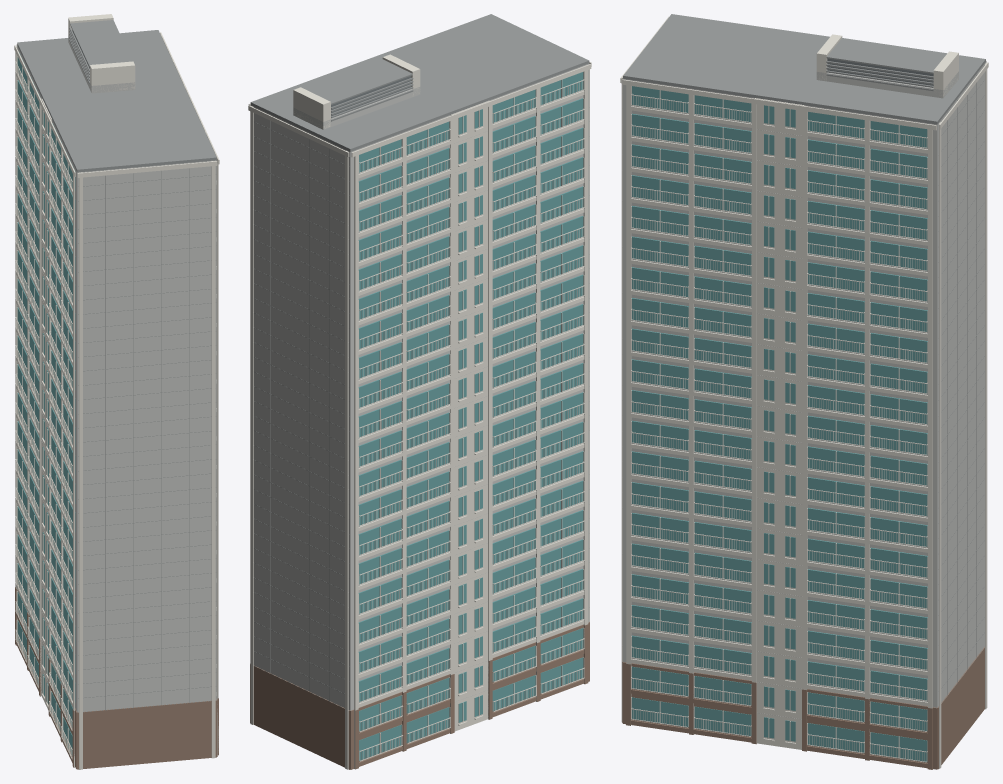
The model's file is bespoke-jamsil-els-126.glb.
3 views of the same model, side by side, from view 1: azimuth 30°, elevation 25°; view 2: azimuth 150°, elevation 25°; view 3: azimuth 270°, elevation 25° (orthographic). The views are drawn at different scales.
Parts seen in each view (by area): view 1: Els126_editable_Els126_light_grey_solid_wall, Els126_editable_Els126_modest_grey_flat_roof_caps, Els126_editable_Els126_turquoise_balcony_glazing, Els126_white_exact_chunk_0, Els126_white_exact_chunk_1, Els126_editable_Els126_muted_ground_wall, Els126_white_exact_chunk_2; view 2: Els126_editable_Els126_turquoise_balcony_glazing, Els126_editable_Els126_light_grey_solid_wall, Els126_white_exact_chunk_0, Els126_white_exact_chunk_1, Els126_editable_Els126_modest_grey_flat_roof_caps, Els126_editable_Els126_muted_ground_wall, Els126_white_exact_chunk_2, Els126_editable_Els126_narrow_charcoal_service_strips; view 3: Els126_editable_Els126_turquoise_balcony_glazing, Els126_white_exact_chunk_2, Els126_editable_Els126_light_grey_solid_wall, Els126_white_exact_chunk_1, Els126_editable_Els126_modest_grey_flat_roof_caps, Els126_editable_Els126_muted_ground_wall, Els126_white_exact_chunk_0, Els126_editable_Els126_narrow_charcoal_service_strips.
Boxes of the visible parts, x1,y1,x2,y2 form: Els126_editable_Els126_light_grey_solid_wall: [17, 35, 216, 712]; Els126_editable_Els126_modest_grey_flat_roof_caps: [17, 20, 216, 712]; Els126_editable_Els126_turquoise_balcony_glazing: [17, 53, 75, 755]; Els126_white_exact_chunk_0: [15, 44, 60, 733]; Els126_white_exact_chunk_1: [14, 45, 217, 769]; Els126_editable_Els126_muted_ground_wall: [15, 587, 218, 769]; Els126_white_exact_chunk_2: [68, 14, 219, 754]; Els126_editable_Els126_turquoise_balcony_glazing: [358, 72, 583, 760]; Els126_editable_Els126_light_grey_solid_wall: [250, 63, 589, 710]; Els126_white_exact_chunk_0: [248, 100, 536, 769]; Els126_white_exact_chunk_1: [351, 61, 591, 718]; Els126_editable_Els126_modest_grey_flat_roof_caps: [250, 14, 589, 707]; Els126_editable_Els126_muted_ground_wall: [250, 622, 589, 769]; Els126_white_exact_chunk_2: [248, 54, 420, 128]; Els126_editable_Els126_narrow_charcoal_service_strips: [331, 76, 411, 116]; Els126_editable_Els126_turquoise_balcony_glazing: [631, 86, 927, 761]; Els126_white_exact_chunk_2: [622, 34, 958, 762]; Els126_editable_Els126_light_grey_solid_wall: [623, 62, 985, 719]; Els126_white_exact_chunk_1: [620, 16, 986, 749]; Els126_editable_Els126_modest_grey_flat_roof_caps: [622, 14, 985, 707]; Els126_editable_Els126_muted_ground_wall: [622, 647, 984, 769]; Els126_white_exact_chunk_0: [939, 62, 988, 768]; Els126_editable_Els126_narrow_charcoal_service_strips: [827, 58, 933, 85].
Size of the model in its own units: 20.01 by 57.15 by 28.3.
